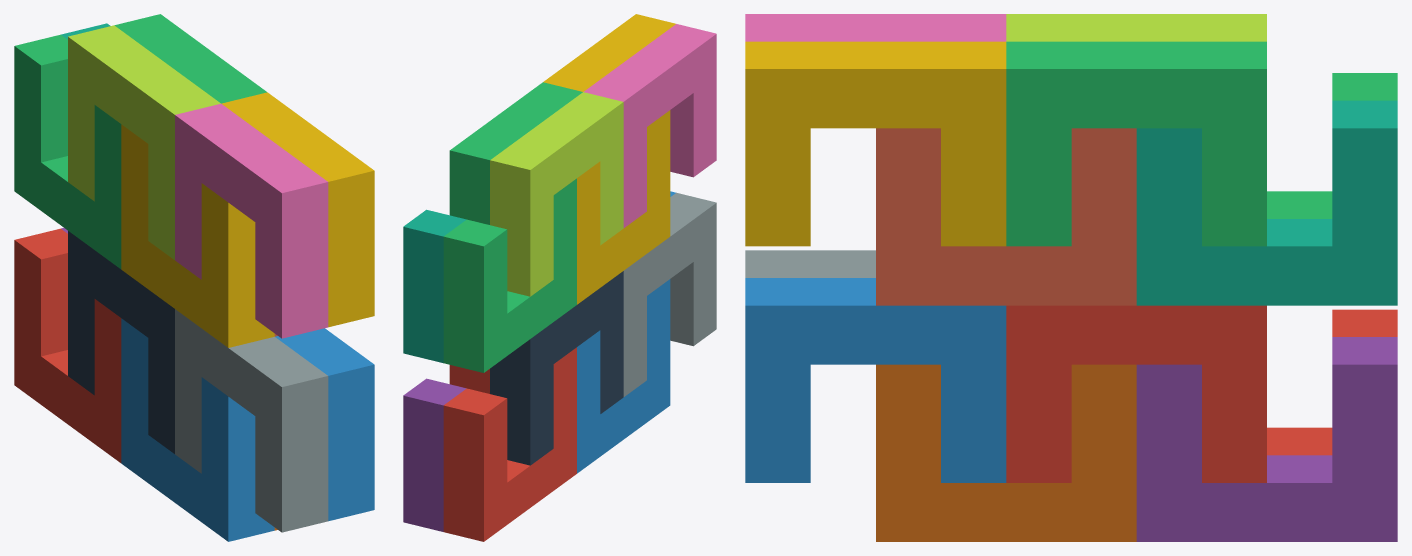
The model's file is tiling.obj.
3 views of the same model, side by side, from view 1: azimuth 30°, elevation 25°; view 2: azimuth 150°, elevation 25°; view 3: azimuth 270°, elevation 25° (orthographic). The views are drawn at different scales.
Visible parts, largest first — view 1: copy_2_domain_4, copy_2_domain_2, copy_2_domain_3, copy_1_domain_1, copy_1_domain_3, copy_1_domain_4, copy_1_domain_2, copy_2_domain_8, copy_2_domain_1, copy_2_domain_6, copy_2_domain_7; view 2: copy_2_domain_3, copy_1_domain_3, copy_1_domain_1, copy_2_domain_4, copy_2_domain_1, copy_2_domain_2, copy_1_domain_2, copy_1_domain_4, copy_2_domain_7, copy_1_domain_5, copy_1_domain_7, copy_2_domain_8 (+1 smaller); view 3: copy_2_domain_8, copy_2_domain_7, copy_1_domain_7, copy_2_domain_6, copy_1_domain_5, copy_1_domain_8, copy_2_domain_5, copy_1_domain_6, copy_2_domain_4, copy_2_domain_3, copy_1_domain_1, copy_1_domain_3 (+1 smaller).
Part boxes in pixels (bbox=[...]): copy_2_domain_4: bbox=[175, 103, 328, 338]; copy_2_domain_2: bbox=[175, 309, 328, 532]; copy_2_domain_3: bbox=[68, 25, 220, 259]; copy_1_domain_1: bbox=[14, 228, 121, 462]; copy_1_domain_3: bbox=[14, 34, 121, 269]; copy_1_domain_4: bbox=[121, 124, 274, 347]; copy_1_domain_2: bbox=[121, 318, 274, 541]; copy_2_domain_8: bbox=[221, 92, 374, 327]; copy_2_domain_1: bbox=[68, 231, 174, 453]; copy_2_domain_6: bbox=[275, 328, 374, 521]; copy_2_domain_7: bbox=[114, 14, 266, 103]; copy_2_domain_3: bbox=[490, 92, 623, 296]; copy_1_domain_3: bbox=[443, 178, 576, 372]; copy_1_domain_1: bbox=[443, 347, 576, 541]; copy_2_domain_4: bbox=[584, 24, 716, 227]; copy_2_domain_1: bbox=[490, 271, 623, 465]; copy_2_domain_2: bbox=[623, 192, 716, 396]; copy_1_domain_2: bbox=[577, 279, 670, 473]; copy_1_domain_4: bbox=[577, 110, 670, 304]; copy_2_domain_7: bbox=[449, 82, 582, 224]; copy_1_domain_5: bbox=[403, 378, 466, 531]; copy_1_domain_7: bbox=[403, 209, 466, 363]; copy_2_domain_8: bbox=[543, 14, 675, 91]; copy_2_domain_8: bbox=[745, 41, 1006, 246]; copy_2_domain_7: bbox=[1006, 41, 1266, 246]; copy_1_domain_7: bbox=[1136, 100, 1397, 305]; copy_2_domain_6: bbox=[745, 278, 1006, 482]; copy_1_domain_5: bbox=[1136, 337, 1397, 541]; copy_1_domain_8: bbox=[876, 128, 1136, 305]; copy_2_domain_5: bbox=[1006, 305, 1266, 482]; copy_1_domain_6: bbox=[876, 364, 1136, 541]; copy_2_domain_4: bbox=[745, 14, 1006, 41]; copy_2_domain_3: bbox=[1006, 14, 1266, 41]; copy_1_domain_1: bbox=[1267, 309, 1397, 455]; copy_1_domain_3: bbox=[1267, 73, 1397, 218].
Bounding box in the file's own units: 2 × 8 × 10.
